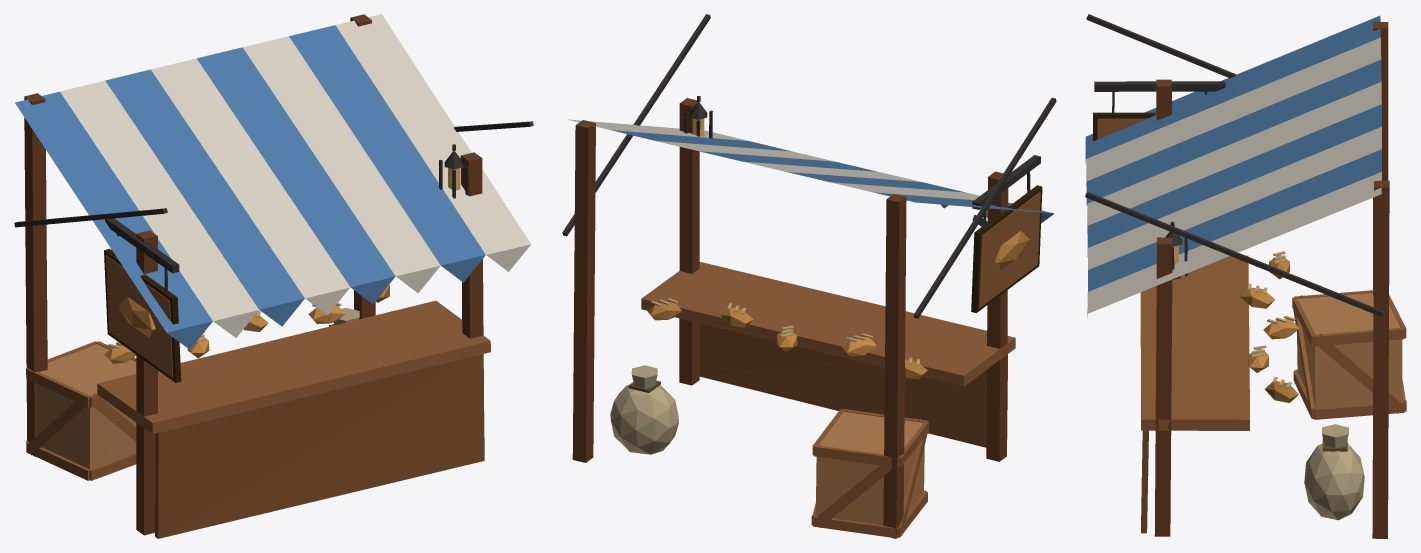
The model's file is bread-stall.glb.
The picture shows the model from 3 angles, left to right: view 1: azimuth 30°, elevation 25°; view 2: azimuth 150°, elevation 25°; view 3: azimuth 270°, elevation 25°; orthographic projection. The views are drawn at different scales.
Visible parts, largest first — view 1: props/bread-stall; view 2: props/bread-stall; view 3: props/bread-stall.
Boxes of the visible parts, left/top/right/bottom form: props/bread-stall: left=14, top=14, right=533, bottom=538; props/bread-stall: left=562, top=14, right=1056, bottom=538; props/bread-stall: left=1085, top=14, right=1406, bottom=538.
Size of the model in its own units: 2.74 by 2.53 by 2.08.
